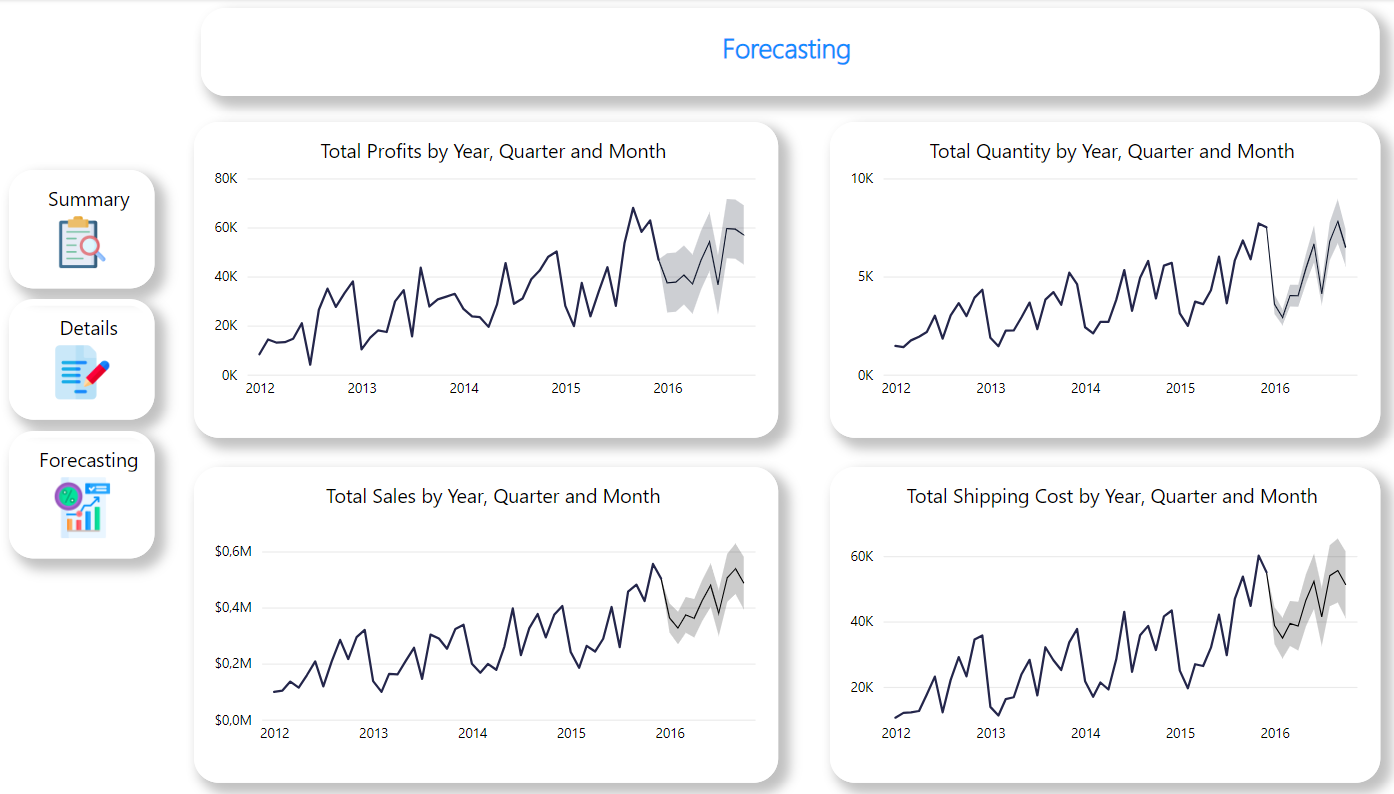

The dashboard page shown, as its layout file describes it:
{"tool":"powerbi","page":{"name":"Forecasting","canvas":[1280,720],"ordinal":2},"visuals":[{"type":"lineChart","fields":{"Y":["Sum(Orders.Profit)"],"Category":["Orders.Order Date.Variation.Date Hierarchy.Year","Orders.Order Date.Variation.Date Hierarchy.Quarter","Orders.Order Date.Variation.Date Hierarchy.Month","Orders.Order Date.Variation.Date Hierarchy.Day"]},"box":[179.4,108.7,518.4,280.3],"z":0},{"type":"lineChart","fields":{"Category":["Orders.Order Date.Variation.Date Hierarchy.Year","Orders.Order Date.Variation.Date Hierarchy.Quarter","Orders.Order Date.Variation.Date Hierarchy.Month","Orders.Order Date.Variation.Date Hierarchy.Day"],"Y":["Sum(Orders.Sales)"]},"box":[179.4,414.9,518.4,280.3],"z":1000},{"type":"lineChart","fields":{"Category":["Orders.Order Date.Variation.Date Hierarchy.Year","Orders.Order Date.Variation.Date Hierarchy.Quarter","Orders.Order Date.Variation.Date Hierarchy.Month","Orders.Order Date.Variation.Date Hierarchy.Day"],"Y":["Sum(Orders.Shipping Cost)"]},"box":[742.6,414.9,488.2,280.3],"z":2000},{"type":"lineChart","fields":{"Y":["Sum(Orders.Quantity)"],"Category":["Orders.Order Date.Variation.Date Hierarchy.Year","Orders.Order Date.Variation.Date Hierarchy.Quarter","Orders.Order Date.Variation.Date Hierarchy.Month","Orders.Order Date.Variation.Date Hierarchy.Day"]},"box":[742.6,108.7,488.2,280.3],"z":3000},{"type":"textbox","box":[185.4,7.8,1045.4,77.6],"z":4000},{"type":"image","title":"Summary","box":[14.7,151.8,129.4,105.2],"z":5000},{"type":"image","title":"Details","box":[14.7,265.7,129.4,107],"z":6000},{"type":"image","title":"Forecasting","box":[14.7,383,129.4,113],"z":7000}]}

Visuals, with their boxes in screenshot pixels (x1, y1, x2, y2), scaled from the page's 1280x720 canvas onto the 1394x794 screenshot:
lineChart - Sum(Orders.Profit) x Orders.Order Date.Variation.Date Hierarchy.Year: 195/120/760/429
lineChart - Orders.Order Date.Variation.Date Hierarchy.Year x Orders.Order Date.Variation.Date Hierarchy.Quarter: 195/458/760/767
lineChart - Orders.Order Date.Variation.Date Hierarchy.Year x Orders.Order Date.Variation.Date Hierarchy.Quarter: 809/458/1340/767
lineChart - Sum(Orders.Quantity) x Orders.Order Date.Variation.Date Hierarchy.Year: 809/120/1340/429
textbox: 202/9/1340/94
"Summary" image: 16/167/157/283
"Details" image: 16/293/157/411
"Forecasting" image: 16/422/157/547
